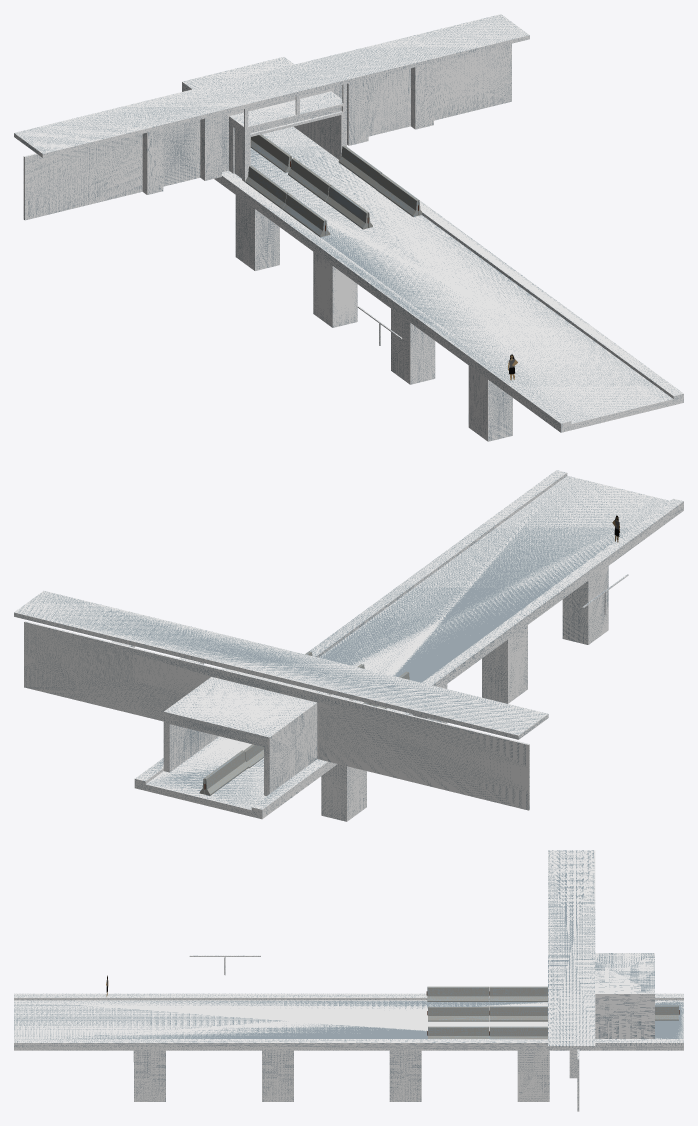
Rendered from Bridge with checkpoint.fbx.
3 renders of one model, top to bottom at view 1: azimuth 30°, elevation 25°; view 2: azimuth 150°, elevation 25°; view 3: azimuth 270°, elevation 25°, orthographic. The views are drawn at different scales.
Parts seen in each view (by area): view 1: Model, Precast_Concrete_Traffic_Barrier6, Precast_Concrete_Traffic_Barrier4, Precast_Concrete_Traffic_Barrier3, Precast_Concrete_Traffic_Barrier1, Precast_Concrete_Traffic_Barrier5, Precast_Concrete_Traffic_Barrier2, Precast_Concrete_Traffic_Barrier7; view 2: Model, Precast_Concrete_Traffic_Barrier8; view 3: Model, Precast_Concrete_Traffic_Barrier4, Precast_Concrete_Traffic_Barrier6, Precast_Concrete_Traffic_Barrier1, Precast_Concrete_Traffic_Barrier5, Precast_Concrete_Traffic_Barrier2, Precast_Concrete_Traffic_Barrier3.
Boxes of the visible parts, x1=… form: Model: x1=14, y1=14, x2=683, y2=441; Precast_Concrete_Traffic_Barrier6: x1=325, y1=185, x2=372, y2=229; Precast_Concrete_Traffic_Barrier4: x1=283, y1=193, x2=330, y2=237; Precast_Concrete_Traffic_Barrier3: x1=376, y1=173, x2=421, y2=216; Precast_Concrete_Traffic_Barrier1: x1=245, y1=165, x2=288, y2=209; Precast_Concrete_Traffic_Barrier5: x1=288, y1=158, x2=331, y2=201; Precast_Concrete_Traffic_Barrier2: x1=338, y1=145, x2=381, y2=189; Precast_Concrete_Traffic_Barrier7: x1=250, y1=134, x2=291, y2=172; Model: x1=14, y1=470, x2=683, y2=821; Precast_Concrete_Traffic_Barrier8: x1=199, y1=750, x2=248, y2=795; Model: x1=14, y1=850, x2=683, y2=1111; Precast_Concrete_Traffic_Barrier4: x1=427, y1=986, x2=488, y2=1001; Precast_Concrete_Traffic_Barrier6: x1=428, y1=1006, x2=489, y2=1021; Precast_Concrete_Traffic_Barrier1: x1=489, y1=986, x2=547, y2=1001; Precast_Concrete_Traffic_Barrier5: x1=489, y1=1006, x2=547, y2=1021; Precast_Concrete_Traffic_Barrier2: x1=490, y1=1026, x2=547, y2=1039; Precast_Concrete_Traffic_Barrier3: x1=428, y1=1026, x2=489, y2=1038.
Bounding box in the file's own units: 30.04 × 8.9 × 43.48.
